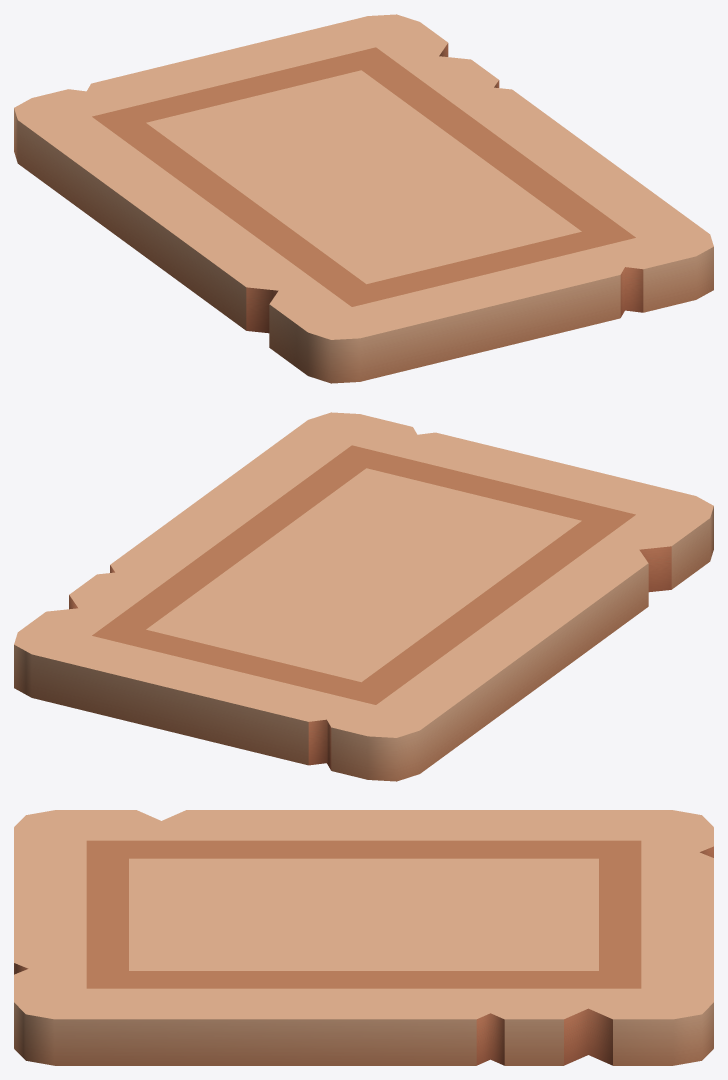
File: cutting-board.obj
The picture shows the model from 3 angles, top to bottom: view 1: azimuth 30°, elevation 25°; view 2: azimuth 150°, elevation 25°; view 3: azimuth 270°, elevation 25°; orthographic projection. The views are drawn at different scales.
Visible parts, largest first — view 1: cutting-board; view 2: cutting-board; view 3: cutting-board.
Part boxes in pixels (bbox=[...]): cutting-board: bbox=[14, 14, 713, 383]; cutting-board: bbox=[14, 412, 713, 781]; cutting-board: bbox=[14, 810, 713, 1065].
Bounding box in the file's own units: 0.58 × 0.06 × 0.82.
1 material, 1 textured.
